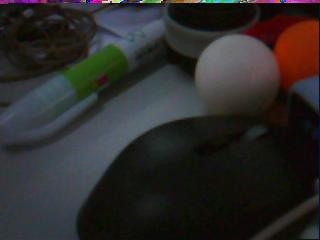oball: (277, 19, 320, 85)
